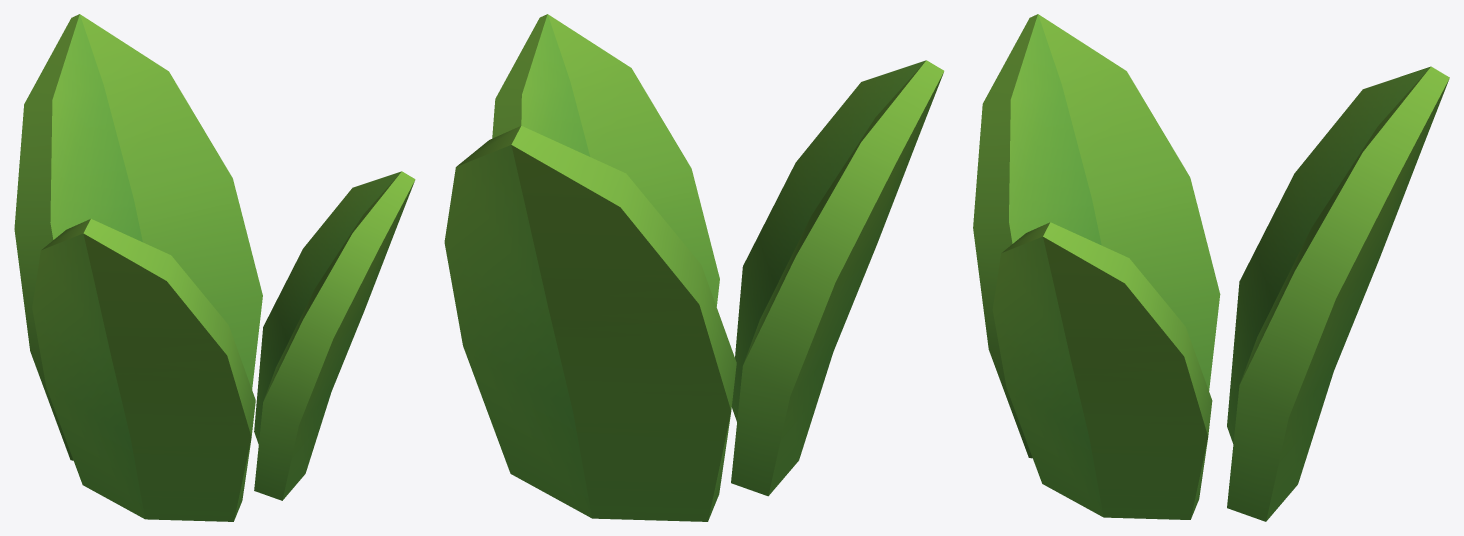
Rendered from Grass_1_B_Color1.gltf.
3 views of the same model, side by side, from view 1: azimuth 30°, elevation 25°; view 2: azimuth 150°, elevation 25°; view 3: azimuth 270°, elevation 25° (orthographic). The views are drawn at different scales.
Visible parts, largest first — view 1: Grass_1_B_Color1; view 2: Grass_1_B_Color1; view 3: Grass_1_B_Color1.
Boxes of the visible parts, x1=… form: Grass_1_B_Color1: x1=14, y1=14, x2=415, y2=521; Grass_1_B_Color1: x1=444, y1=14, x2=944, y2=521; Grass_1_B_Color1: x1=973, y1=14, x2=1449, y2=521.
Bounding box in the file's own units: 0.5051 × 0.5375 × 0.5557.
1 material, 1 textured.
